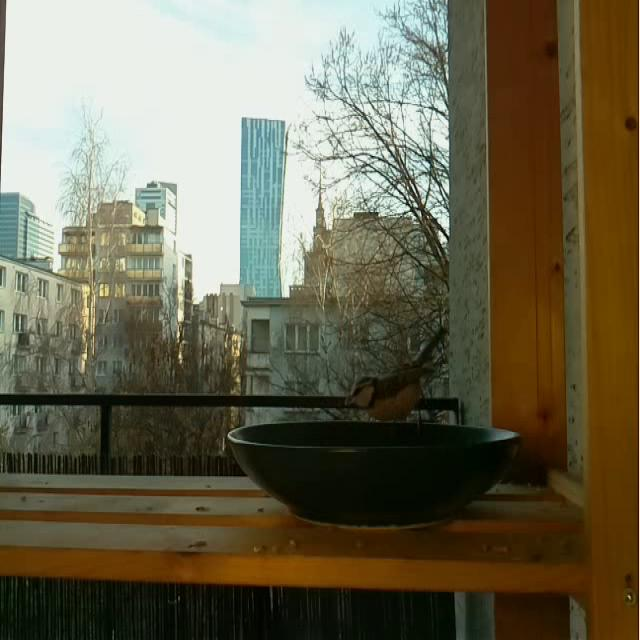Modraszka: (344, 327, 450, 428)
